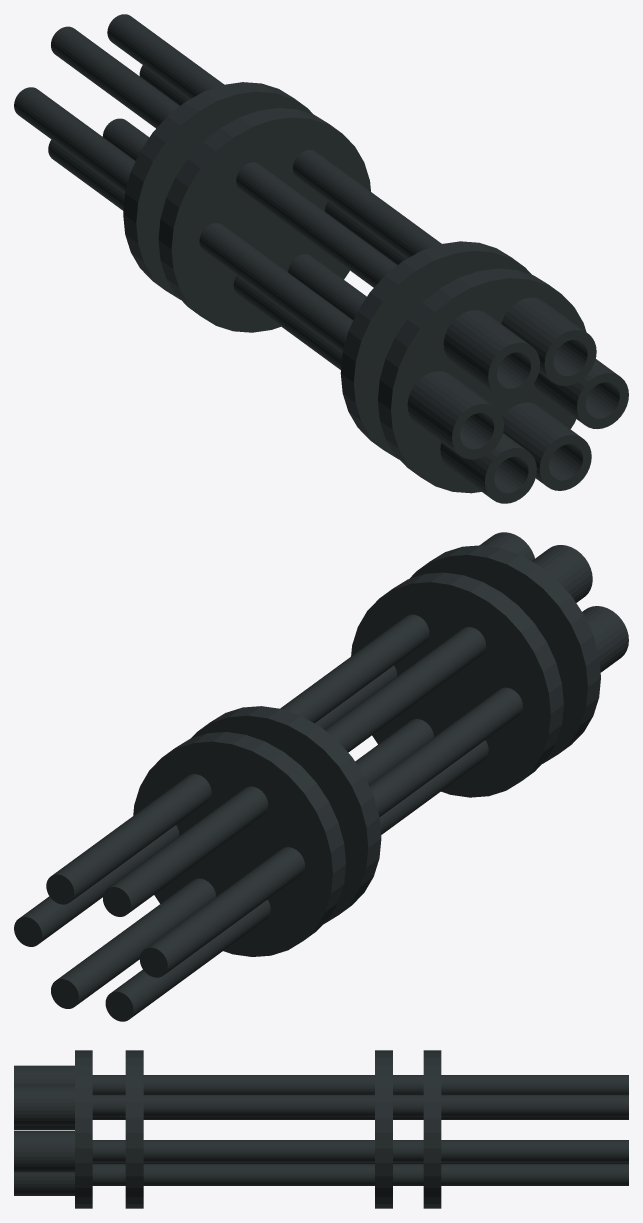
Rendered from BossGunR.obj.
3 renders of one model, top to bottom at view 1: azimuth 30°, elevation 25°; view 2: azimuth 150°, elevation 25°; view 3: azimuth 270°, elevation 25°, orthographic. The views are drawn at different scales.
Parts seen in each view (by area): view 1: Cylinder.013; view 2: Cylinder.013; view 3: Cylinder.013.
Boxes of the visible parts, x1,y1,x2,y2 form: Cylinder.013: [14, 14, 628, 503]; Cylinder.013: [14, 532, 628, 1021]; Cylinder.013: [14, 1050, 628, 1208].
Size of the model in its own units: 2.92 by 2.92 by 11.34.
1 material, 1 textured.
